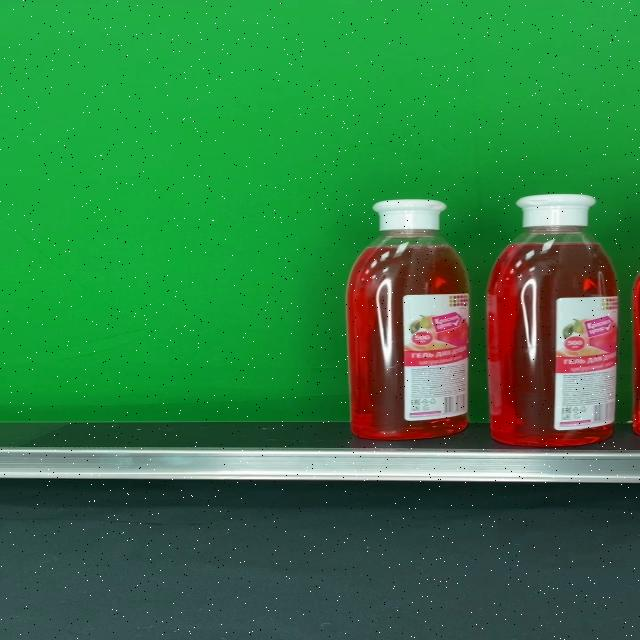Bottle: (486, 194, 618, 447), (345, 199, 470, 440)
Cap: (516, 195, 598, 228), (373, 200, 447, 230)
